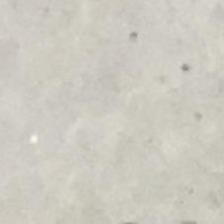Non_Crack: (50, 26, 221, 186)
